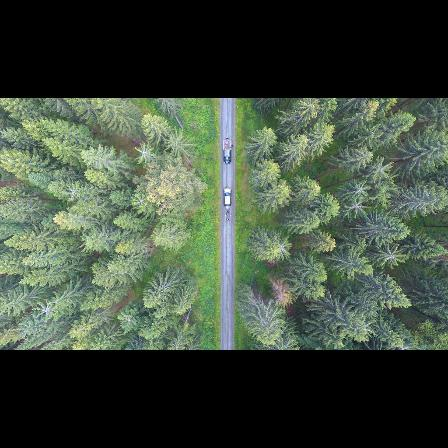Sick: (379, 245, 407, 272), (347, 177, 372, 202), (344, 195, 370, 219), (132, 142, 156, 168), (62, 182, 85, 204), (34, 300, 57, 322), (273, 238, 293, 260)
